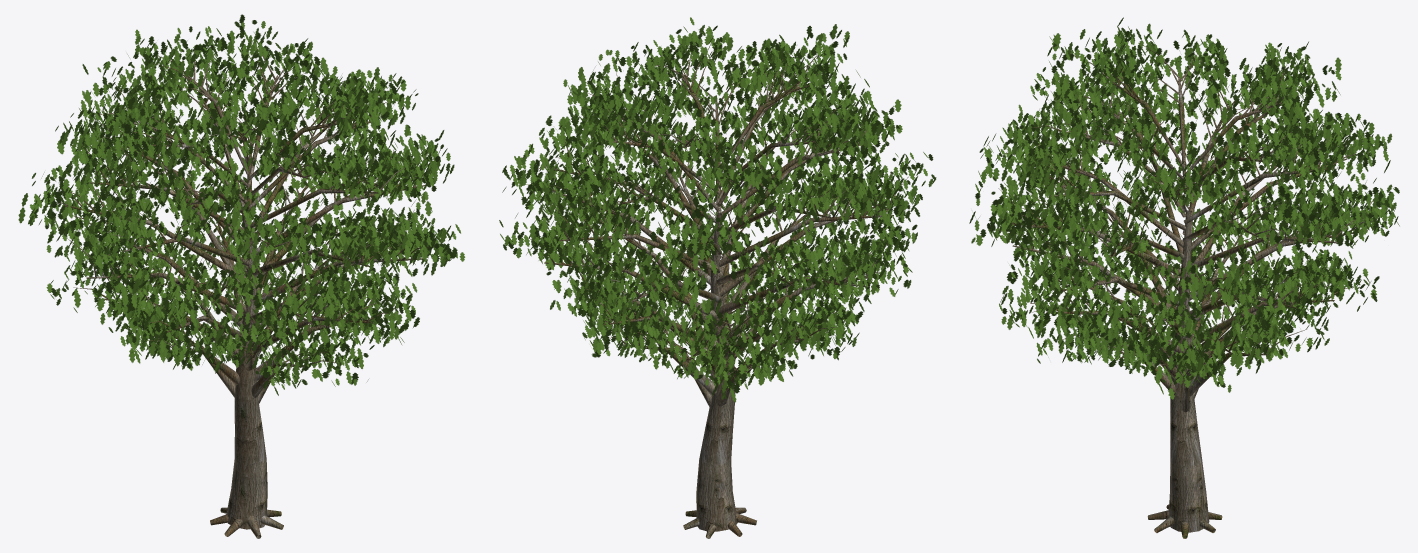
Rendered from white-oak.glb.
The picture shows the model from 3 angles, left to right: view 1: azimuth 30°, elevation 25°; view 2: azimuth 150°, elevation 25°; view 3: azimuth 270°, elevation 25°; orthographic projection.
Visible parts, largest first — view 1: white-oak; view 2: white-oak; view 3: white-oak.
Boxes of the visible parts, x1=… form: white-oak: x1=18, y1=14, x2=465, y2=538; white-oak: x1=499, y1=17, x2=936, y2=538; white-oak: x1=969, y1=17, x2=1399, y2=538.
Size of the model in its own units: 15.01 by 17.91 by 15.14.
Materials: 2 (2 with a texture image).
